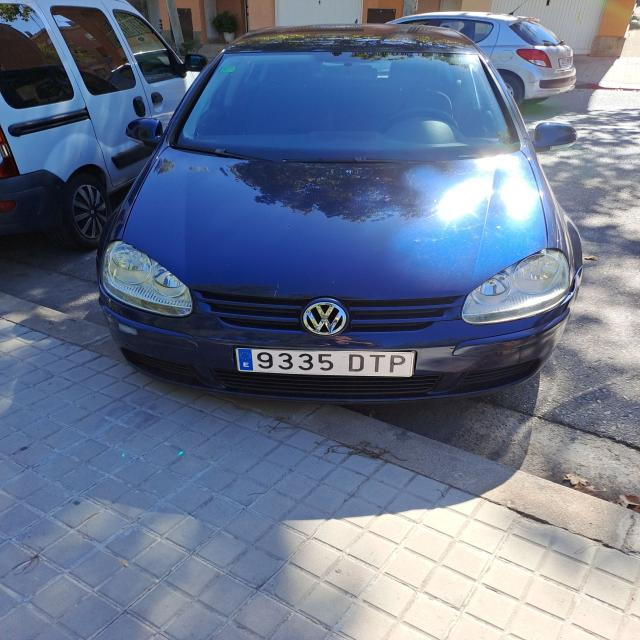license_plate-34Td: (236, 348, 415, 377)
